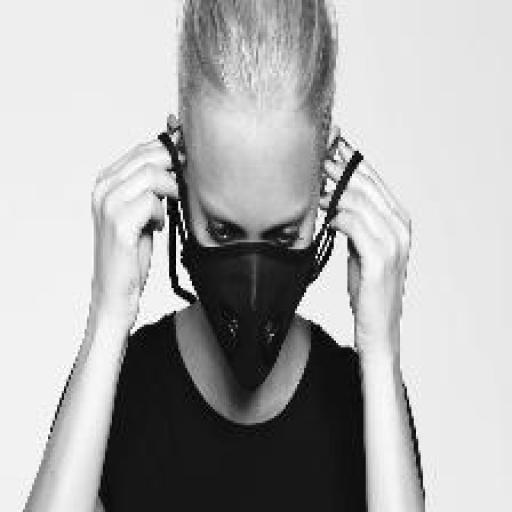mask: (166, 212, 349, 407)
